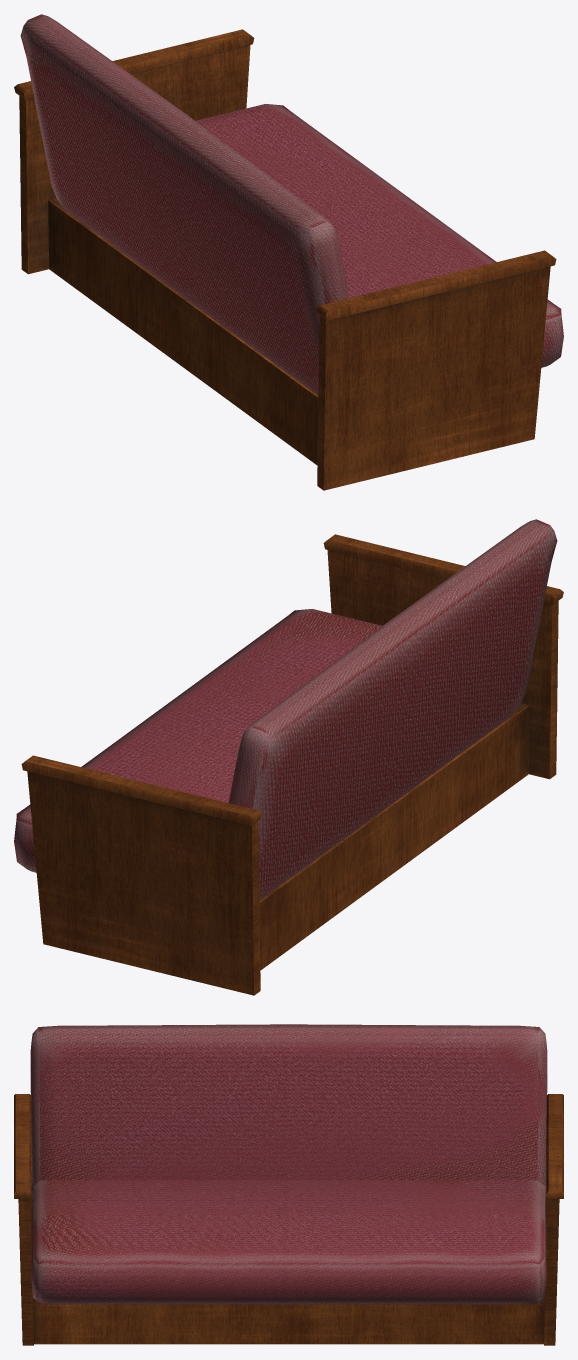
Rendered from sofa02.glb.
The picture shows the model from 3 angles, top to bottom: view 1: azimuth 30°, elevation 25°; view 2: azimuth 150°, elevation 25°; view 3: azimuth 270°, elevation 25°; orthographic projection. The views are drawn at different scales.
Parts seen in each view (by area): view 1: sofa_seat, sofa_frame; view 2: sofa_seat, sofa_frame; view 3: sofa_seat, sofa_frame.
Boxes of the visible parts, <box> form: sofa_seat: <box>20,14,563,395</box>; sofa_frame: <box>14,29,556,490</box>; sofa_seat: <box>14,519,557,900</box>; sofa_frame: <box>21,534,563,995</box>; sofa_seat: <box>30,1024,547,1304</box>; sofa_frame: <box>14,1094,563,1345</box>.
Size of the model in its own units: 0.9343 by 0.8887 by 1.92.
1 material, 1 textured.
